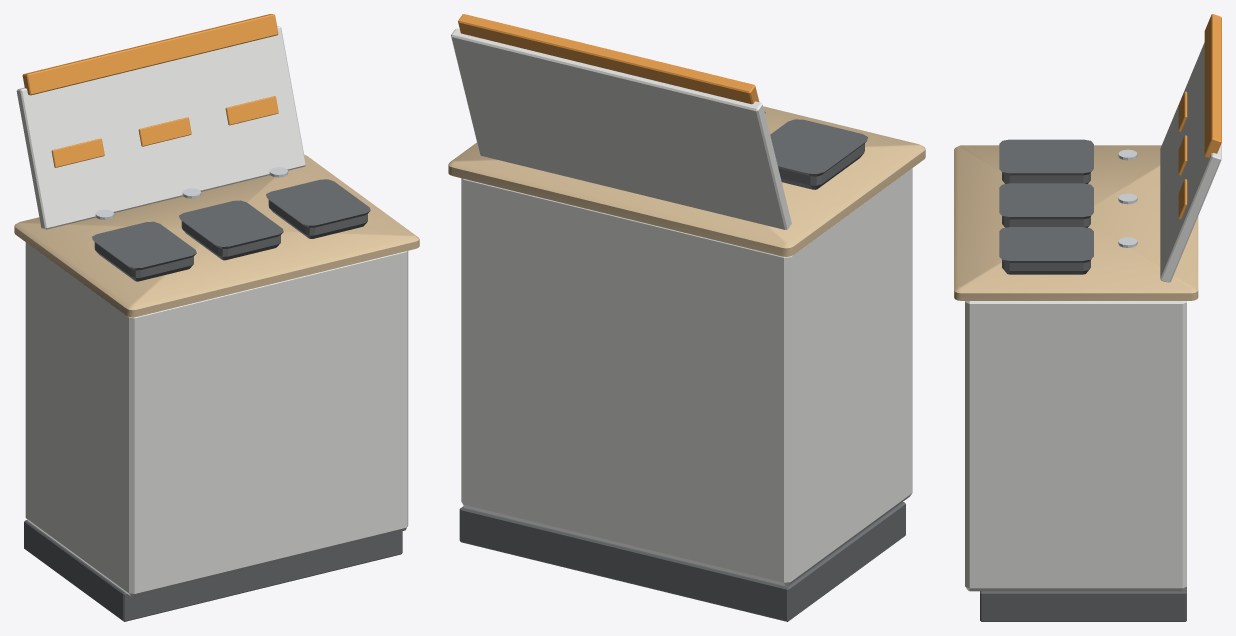
3 views of the same model, side by side, from view 1: azimuth 30°, elevation 25°; view 2: azimuth 150°, elevation 25°; view 3: azimuth 270°, elevation 25° (orthographic). The views are drawn at different scales.
Visible parts, largest first — view 1: power-tool-display-plinth; view 2: power-tool-display-plinth; view 3: power-tool-display-plinth.
Boxes of the visible parts, x1,y1,x2,y2 form: power-tool-display-plinth: [14, 14, 419, 621]; power-tool-display-plinth: [448, 14, 925, 621]; power-tool-display-plinth: [954, 14, 1221, 621].
Bounding box in the file's own units: 0.94 × 1.42 × 0.7241.
